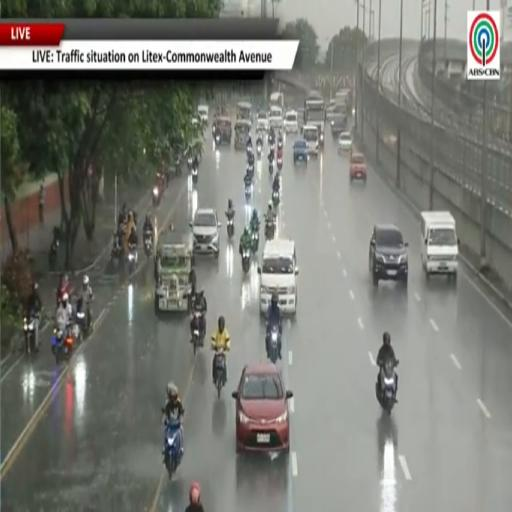car: (233, 362, 293, 453), (258, 238, 298, 315), (369, 224, 408, 285), (191, 208, 220, 259), (349, 152, 366, 182), (303, 125, 319, 156), (330, 116, 347, 140), (294, 139, 308, 165), (284, 110, 298, 134), (270, 106, 283, 130), (338, 132, 352, 153), (256, 111, 269, 132), (198, 105, 208, 125), (326, 100, 335, 120)
jeepney: (235, 120, 250, 150), (216, 117, 232, 145), (237, 102, 253, 124)
motorcycle: (376, 359, 398, 413), (164, 421, 182, 479), (52, 326, 73, 364), (76, 297, 92, 340), (213, 348, 226, 398), (191, 311, 205, 355), (191, 303, 205, 346), (24, 314, 37, 354), (110, 233, 122, 270), (269, 326, 279, 363), (49, 238, 59, 271), (127, 247, 137, 277), (191, 324, 200, 355), (143, 232, 152, 257), (242, 250, 251, 274), (251, 230, 259, 254), (265, 220, 275, 239), (227, 217, 234, 238), (153, 186, 160, 207), (272, 189, 279, 207), (247, 164, 254, 179), (192, 168, 198, 184), (245, 185, 251, 200), (212, 125, 218, 138), (277, 156, 282, 170), (215, 133, 220, 146), (188, 156, 192, 171), (269, 160, 273, 175), (277, 141, 283, 151), (257, 144, 261, 158), (247, 144, 252, 155), (270, 142, 275, 152)
truck: (155, 231, 193, 313), (421, 212, 459, 279), (304, 91, 326, 148)
